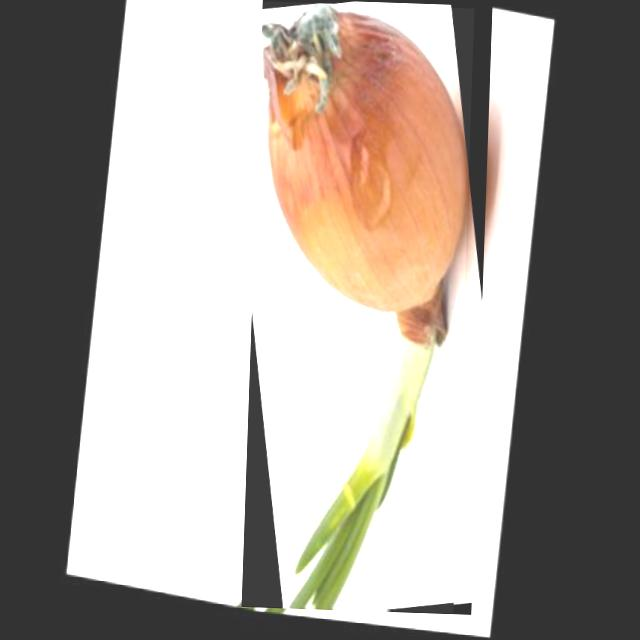sprouting: (261, 4, 468, 608)
